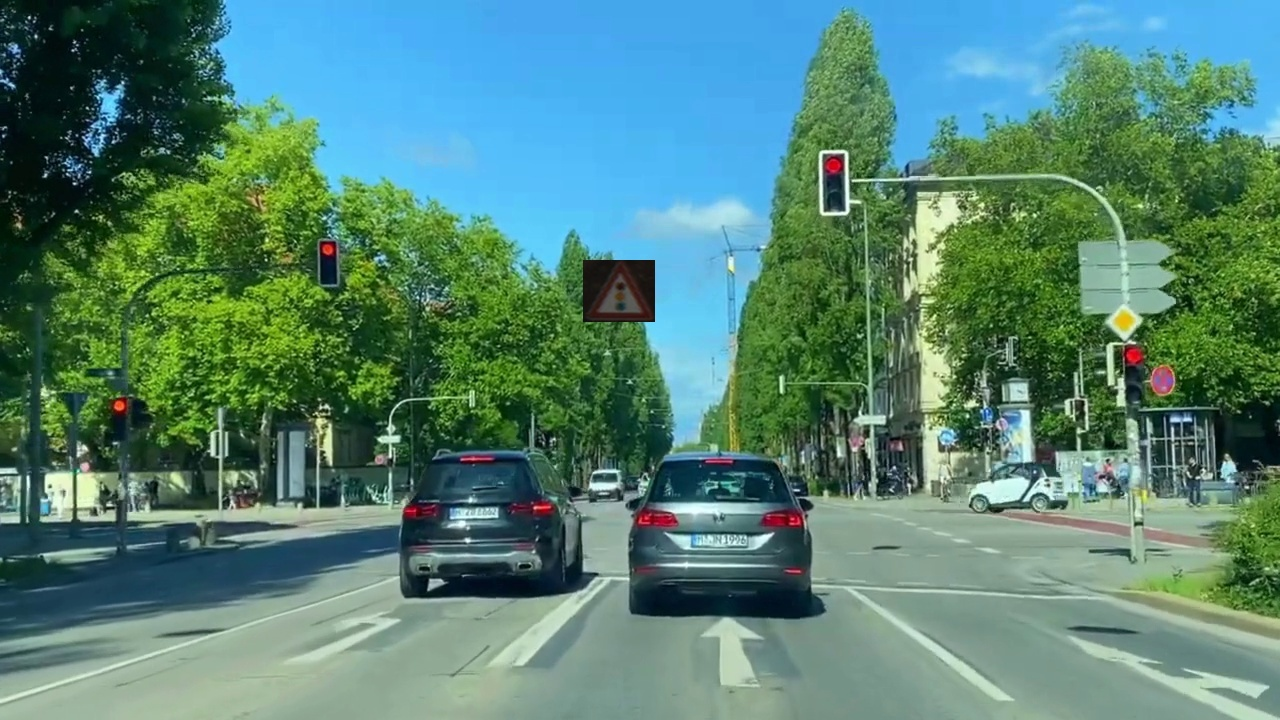Signals: (583, 260, 655, 322)
